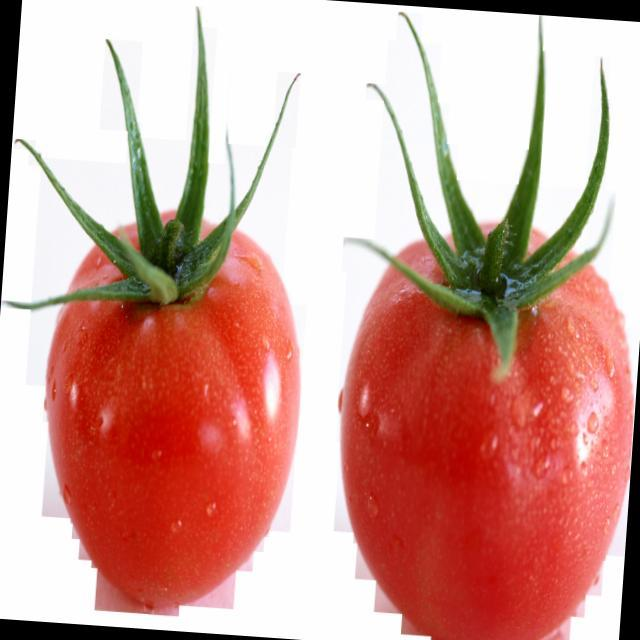TOMATO: (325, 206, 640, 640), (24, 192, 311, 626)
